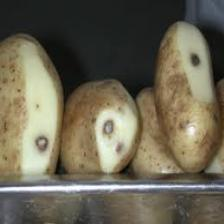Diseased-fungal potato: (153, 19, 223, 177), (0, 30, 65, 184), (60, 76, 143, 178)
